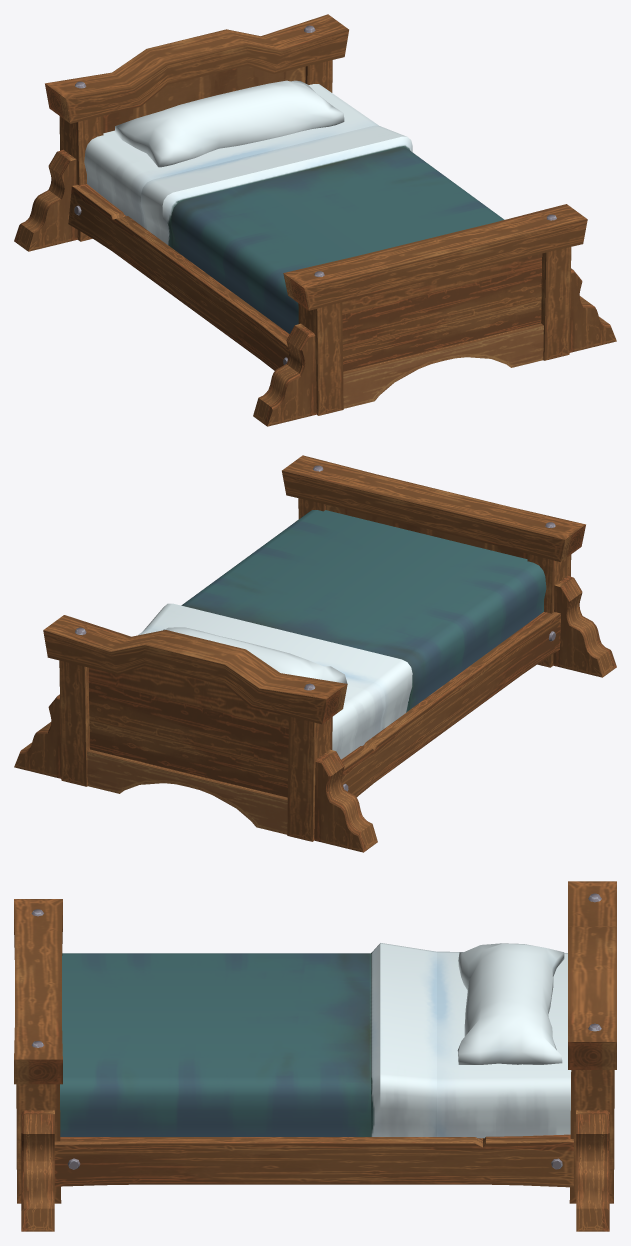
File: Bed_Twin1.gltf
The picture shows the model from 3 angles, top to bottom: view 1: azimuth 30°, elevation 25°; view 2: azimuth 150°, elevation 25°; view 3: azimuth 270°, elevation 25°; orthographic projection. The views are drawn at different scales.
Visible parts, largest first — view 1: Bed_Twin1; view 2: Bed_Twin1; view 3: Bed_Twin1.
Boxes of the visible parts, box(x1,y1,x2,y2) form: Bed_Twin1: box(14, 14, 616, 426); Bed_Twin1: box(14, 455, 616, 852); Bed_Twin1: box(14, 881, 616, 1231).
Size of the model in its own units: 1.88 by 0.8051 by 2.41.
3 materials, 3 textured.
